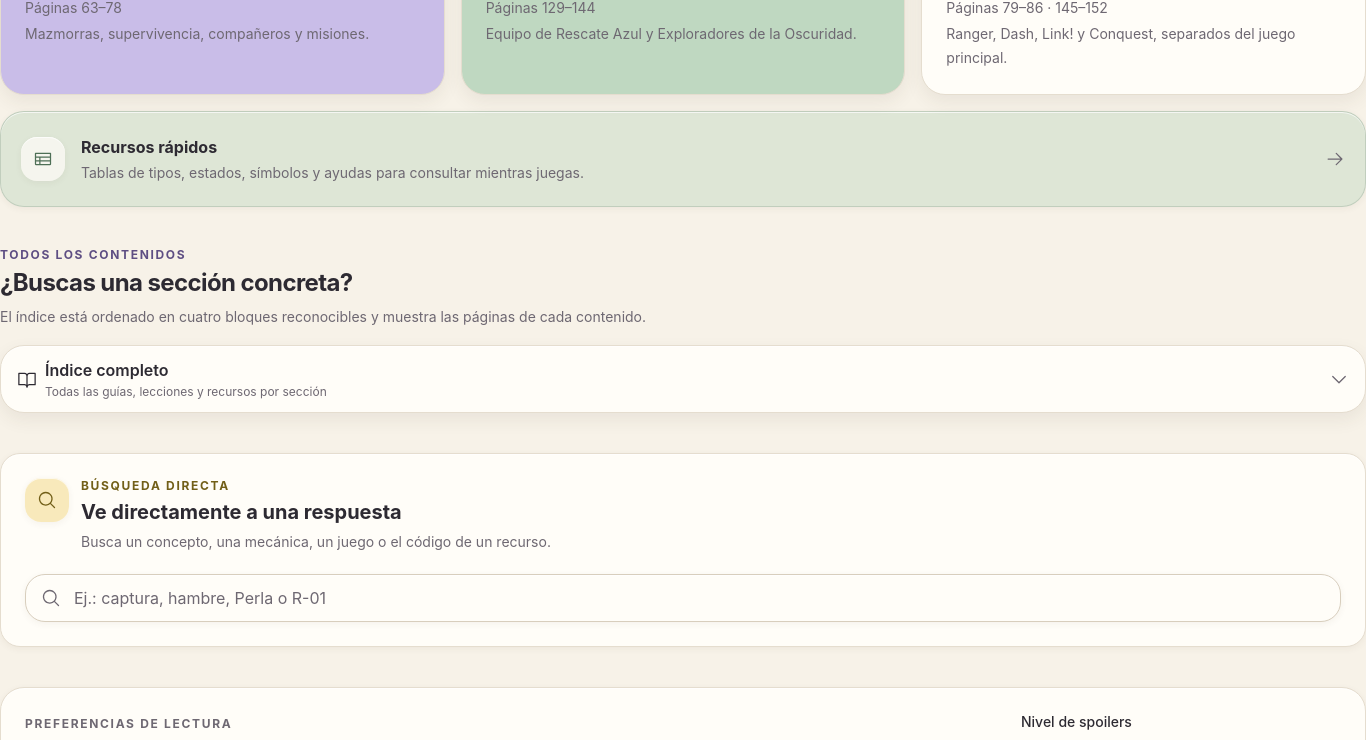
Scenario: rutas de Manuales › presenta la landing como un recorrido claro y deja el índice como consulta secundaria
(page scrolled)
Click the button "Índice completo" at (107,370), box [1, 346, 1365, 412]
(page scrolled)
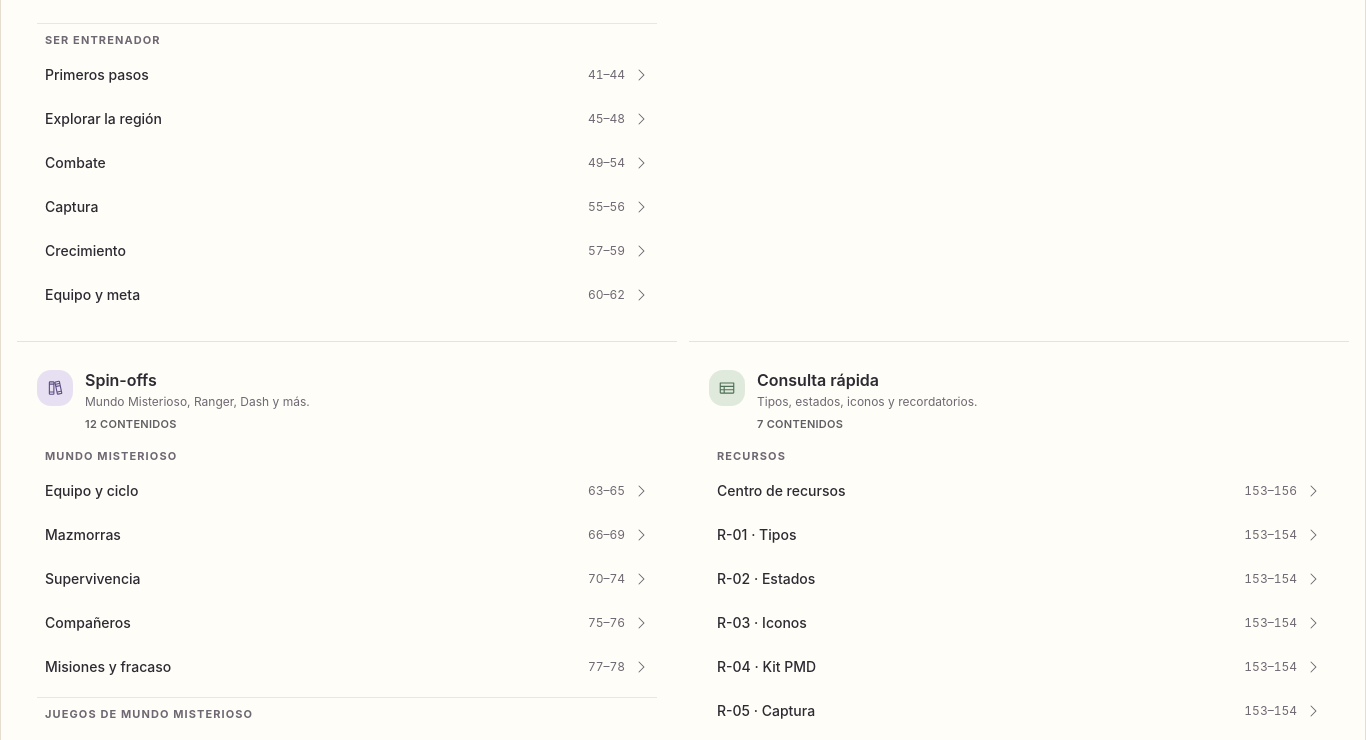
Check: the heading "Spin-offs" is shown, box [85, 370, 157, 390]
Check: the heading "Consulta rápida" is shown, box [757, 370, 879, 390]
